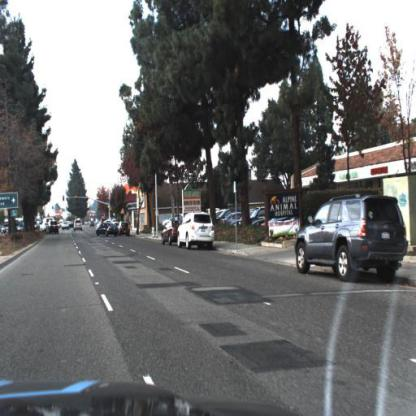car: (292, 191, 411, 279), (176, 208, 218, 250), (161, 216, 180, 251), (94, 220, 124, 241), (218, 211, 247, 228), (246, 205, 270, 224), (48, 217, 63, 237), (118, 220, 133, 238), (73, 217, 87, 234)
